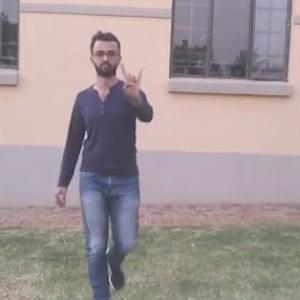takeoff-hand: (117, 60, 150, 112)
